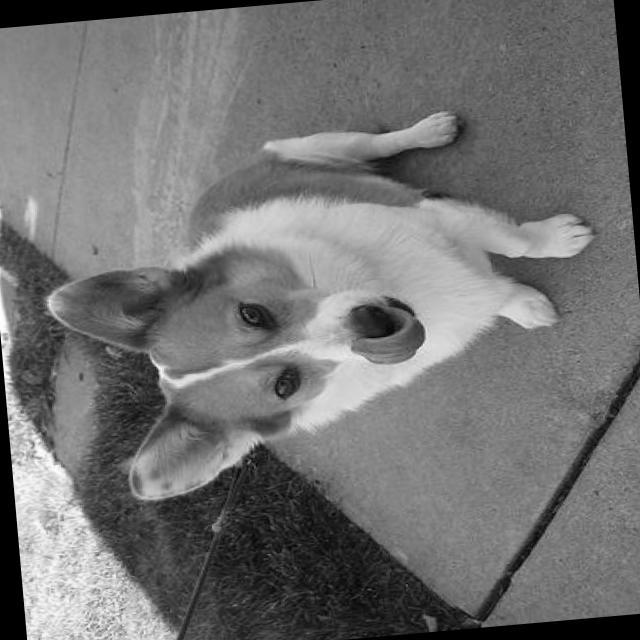sitting: (28, 94, 620, 516)
